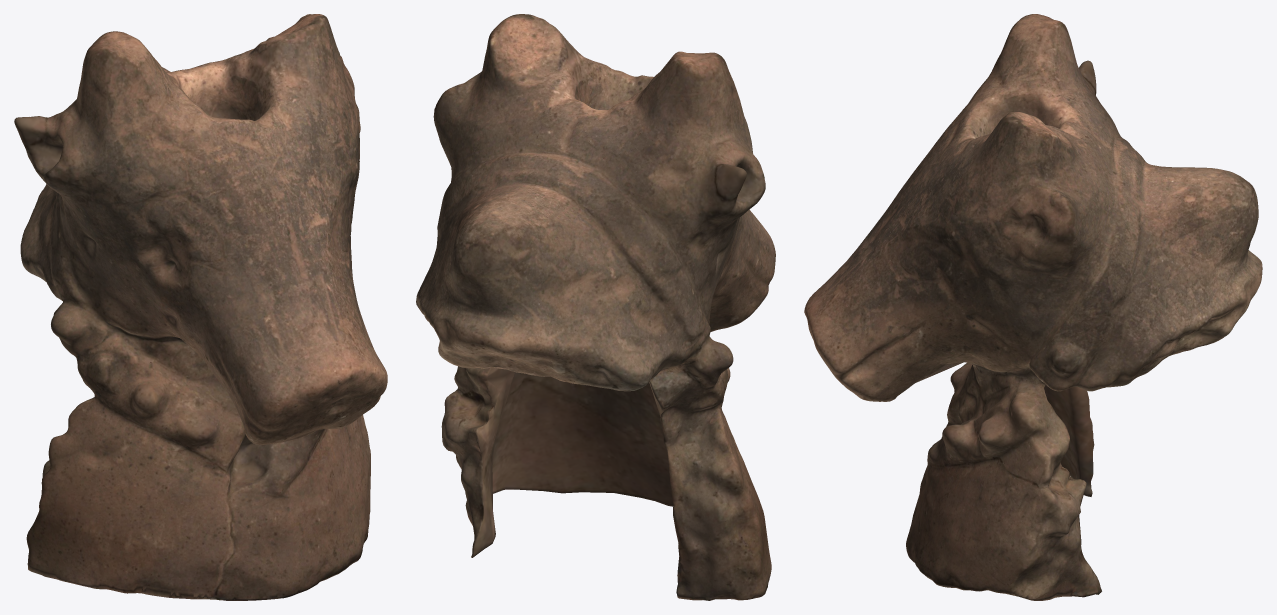
File: MysonMuseum_Bothannandin2_final.glb
The picture shows the model from 3 angles, left to right: view 1: azimuth 30°, elevation 25°; view 2: azimuth 150°, elevation 25°; view 3: azimuth 270°, elevation 25°; orthographic projection. The views are drawn at different scales.
Bounding box in the file's own units: 0.2608 × 0.4079 × 0.3467.
1 material, 1 textured.
